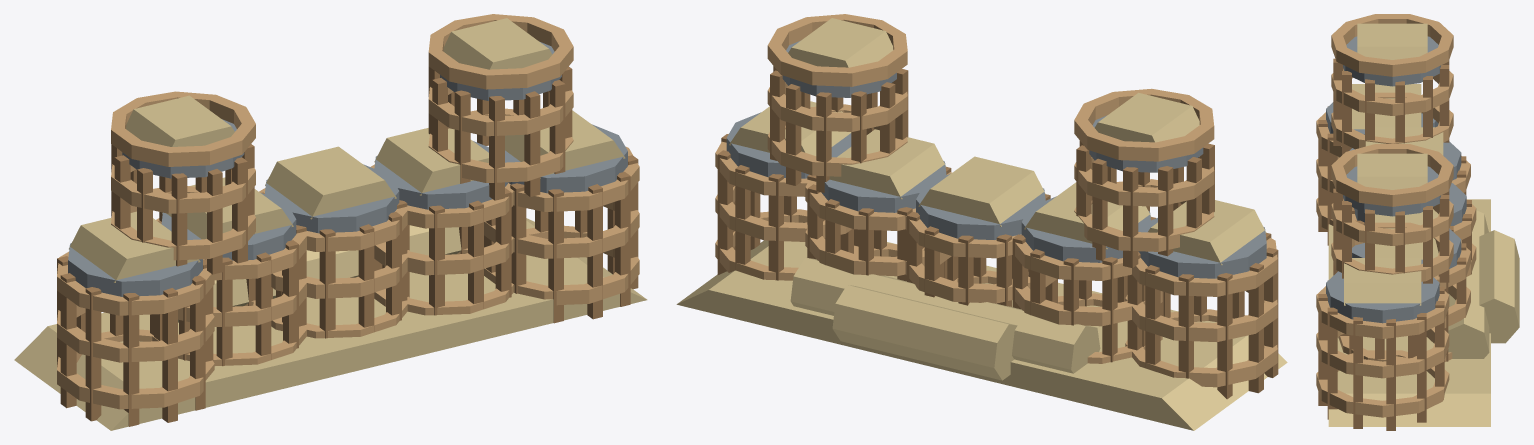
The model's file is gabion-battery.glb.
The picture shows the model from 3 angles, left to right: view 1: azimuth 30°, elevation 25°; view 2: azimuth 150°, elevation 25°; view 3: azimuth 270°, elevation 25°; orthographic projection. The views are drawn at different scales.
Visible parts, largest first — view 1: gabion-battery; view 2: gabion-battery; view 3: gabion-battery.
Part boxes in pixels (x1=…): gabion-battery: x1=14, y1=14, x2=647, y2=430; gabion-battery: x1=676, y1=14, x2=1287, y2=430; gabion-battery: x1=1316, y1=14, x2=1519, y2=430.
Bounding box in the file's own units: 5.01 × 2.21 × 1.88.
